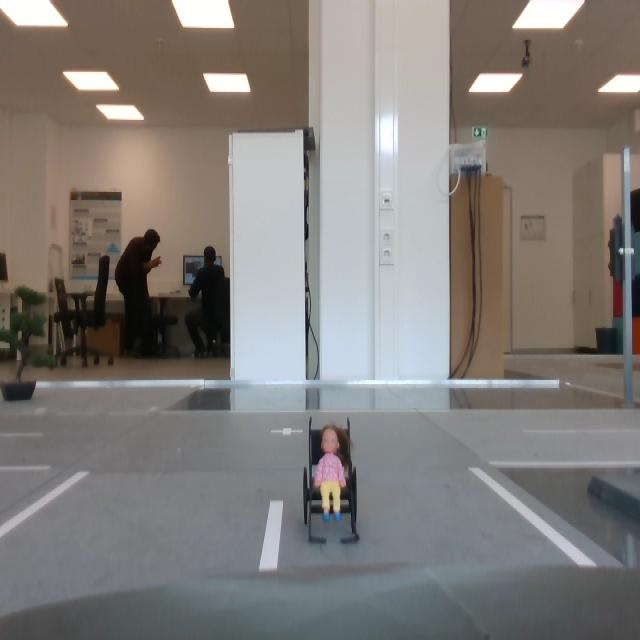person: (314, 425, 351, 522)
potted plant: (1, 285, 57, 401)
